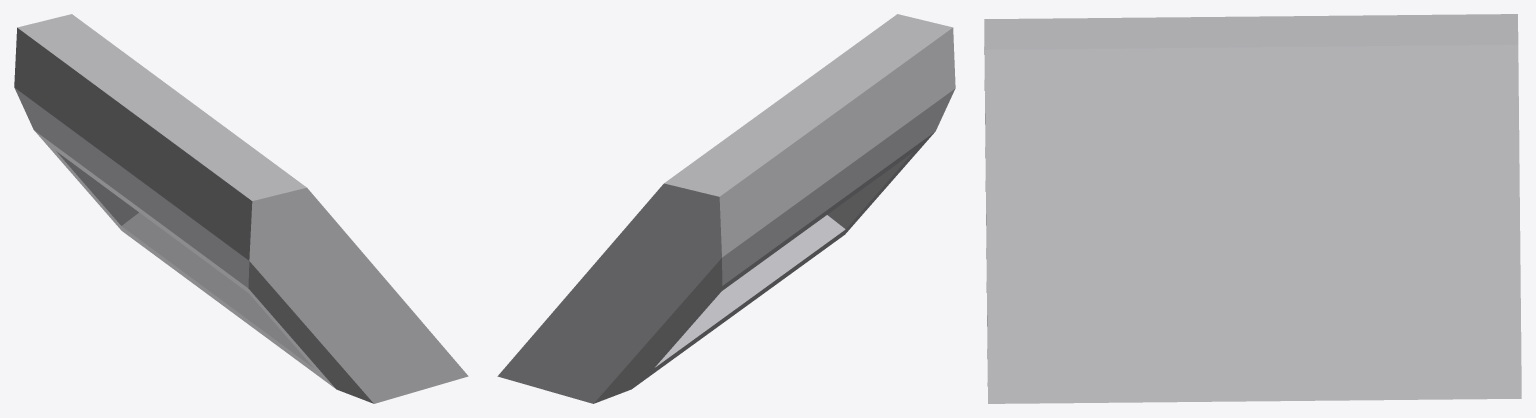
The model's file is Fighter_07_Detail_Neutral.fbx.
The picture shows the model from 3 angles, left to right: view 1: azimuth 30°, elevation 25°; view 2: azimuth 150°, elevation 25°; view 3: azimuth 270°, elevation 25°; orthographic projection. The views are drawn at different scales.
Visible parts, largest first — view 1: Fighter_07_Detail_Neutral; view 2: Fighter_07_Detail_Neutral; view 3: Fighter_07_Detail_Neutral.
Boxes of the visible parts, x1,y1,x2,y2 form: Fighter_07_Detail_Neutral: [14, 14, 468, 403]; Fighter_07_Detail_Neutral: [497, 14, 955, 403]; Fighter_07_Detail_Neutral: [984, 14, 1521, 403].
Bounding box in the file's own units: 51.86 × 52.8 × 94.64.
Materials: 1 (1 with a texture image).
